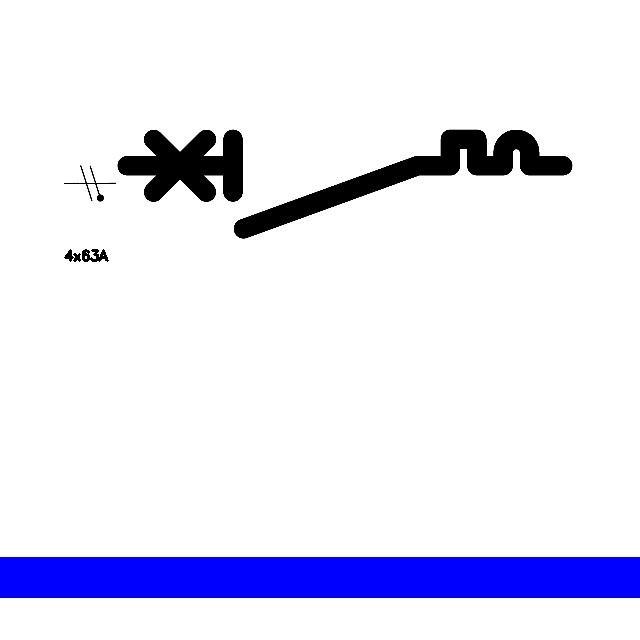interruptor_termomagnetico: (115, 128, 573, 240)
